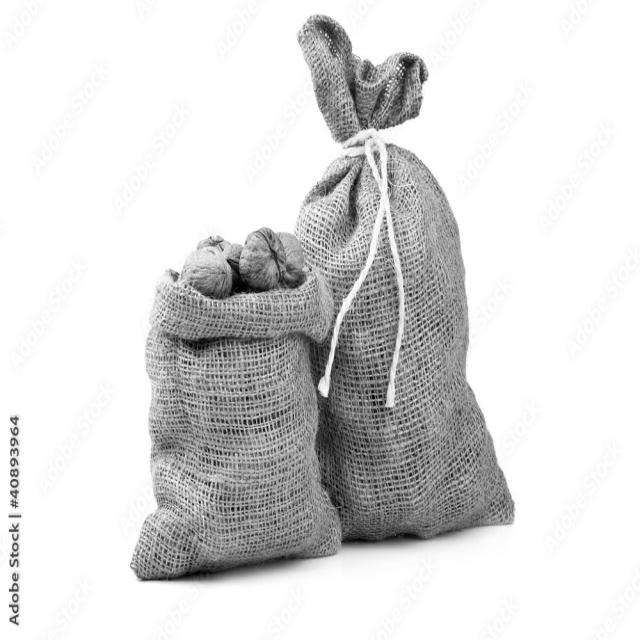sack: (295, 13, 514, 539), (131, 228, 341, 580)
